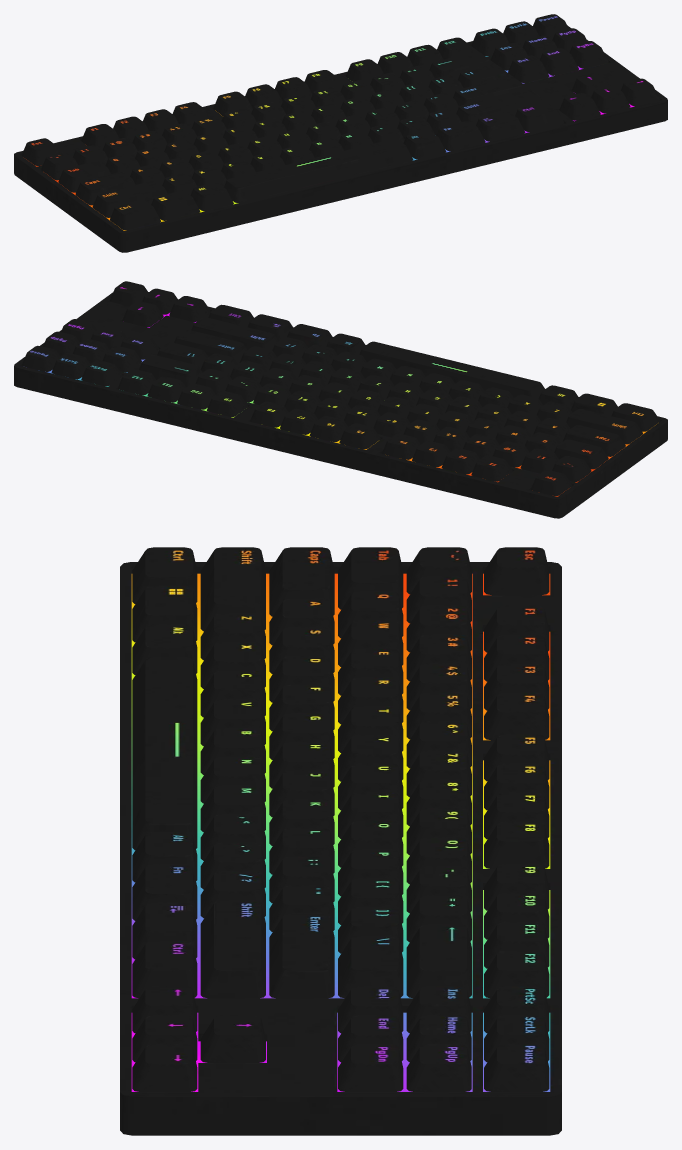
File: Keyboard.glb
3 renders of one model, top to bottom at view 1: azimuth 30°, elevation 25°; view 2: azimuth 150°, elevation 25°; view 3: azimuth 270°, elevation 25°, orthographic. The views are drawn at different scales.
Visible parts, largest first — view 1: Object_2; view 2: Object_2; view 3: Object_2.
Boxes of the visible parts, x1=… form: Object_2: x1=14, y1=14, x2=667, y2=252; Object_2: x1=14, y1=281, x2=667, y2=518; Object_2: x1=120, y1=547, x2=561, y2=1135.
Bounding box in the file's own units: 0.3547 × 0.0192 × 0.1238.
Materials: 1 (1 with a texture image).
